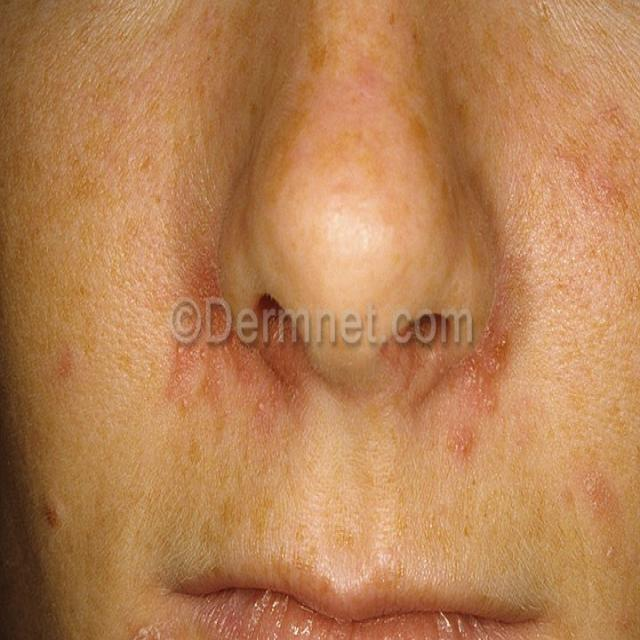Rosacea: (165, 237, 526, 463)
